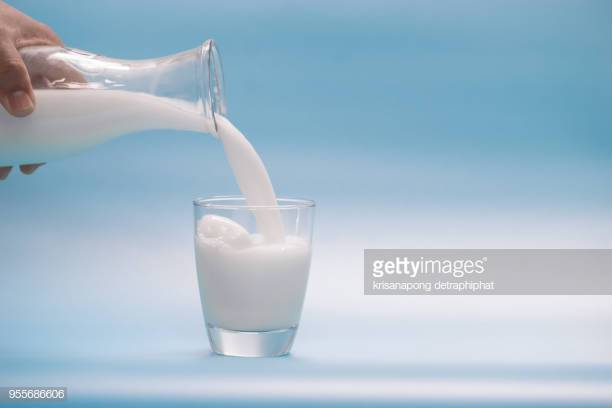glass of milk: (196, 182, 308, 356)
